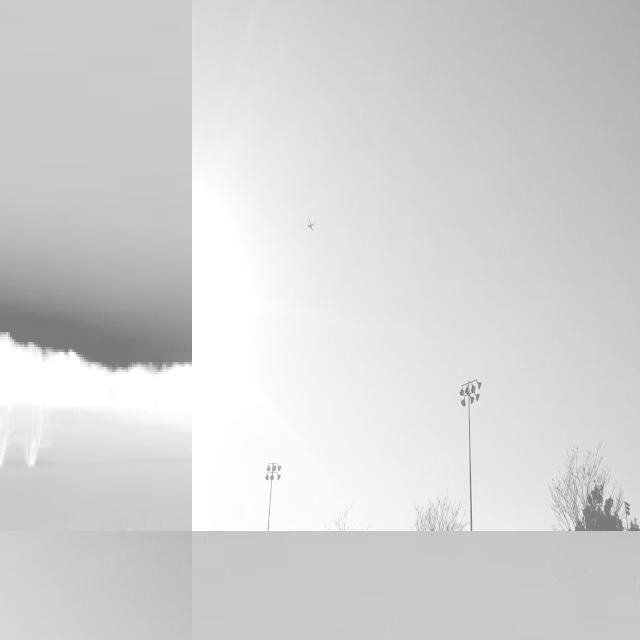drone: (302, 212, 318, 235)
